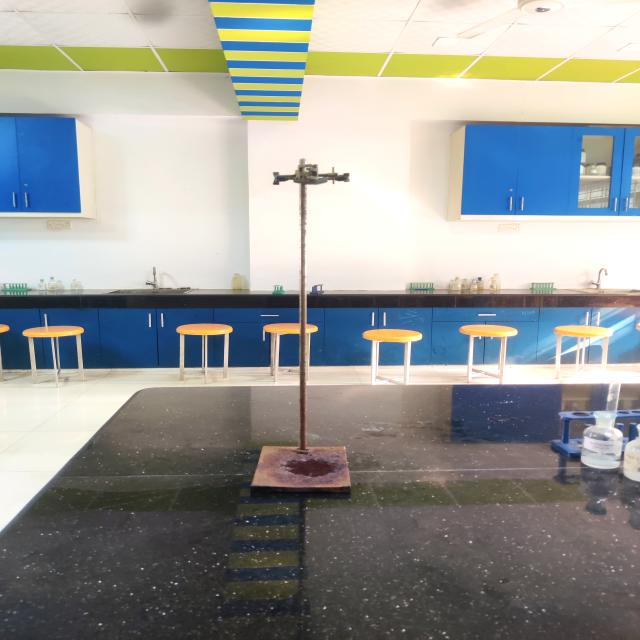Burette_Stands: (230, 142, 376, 514)
